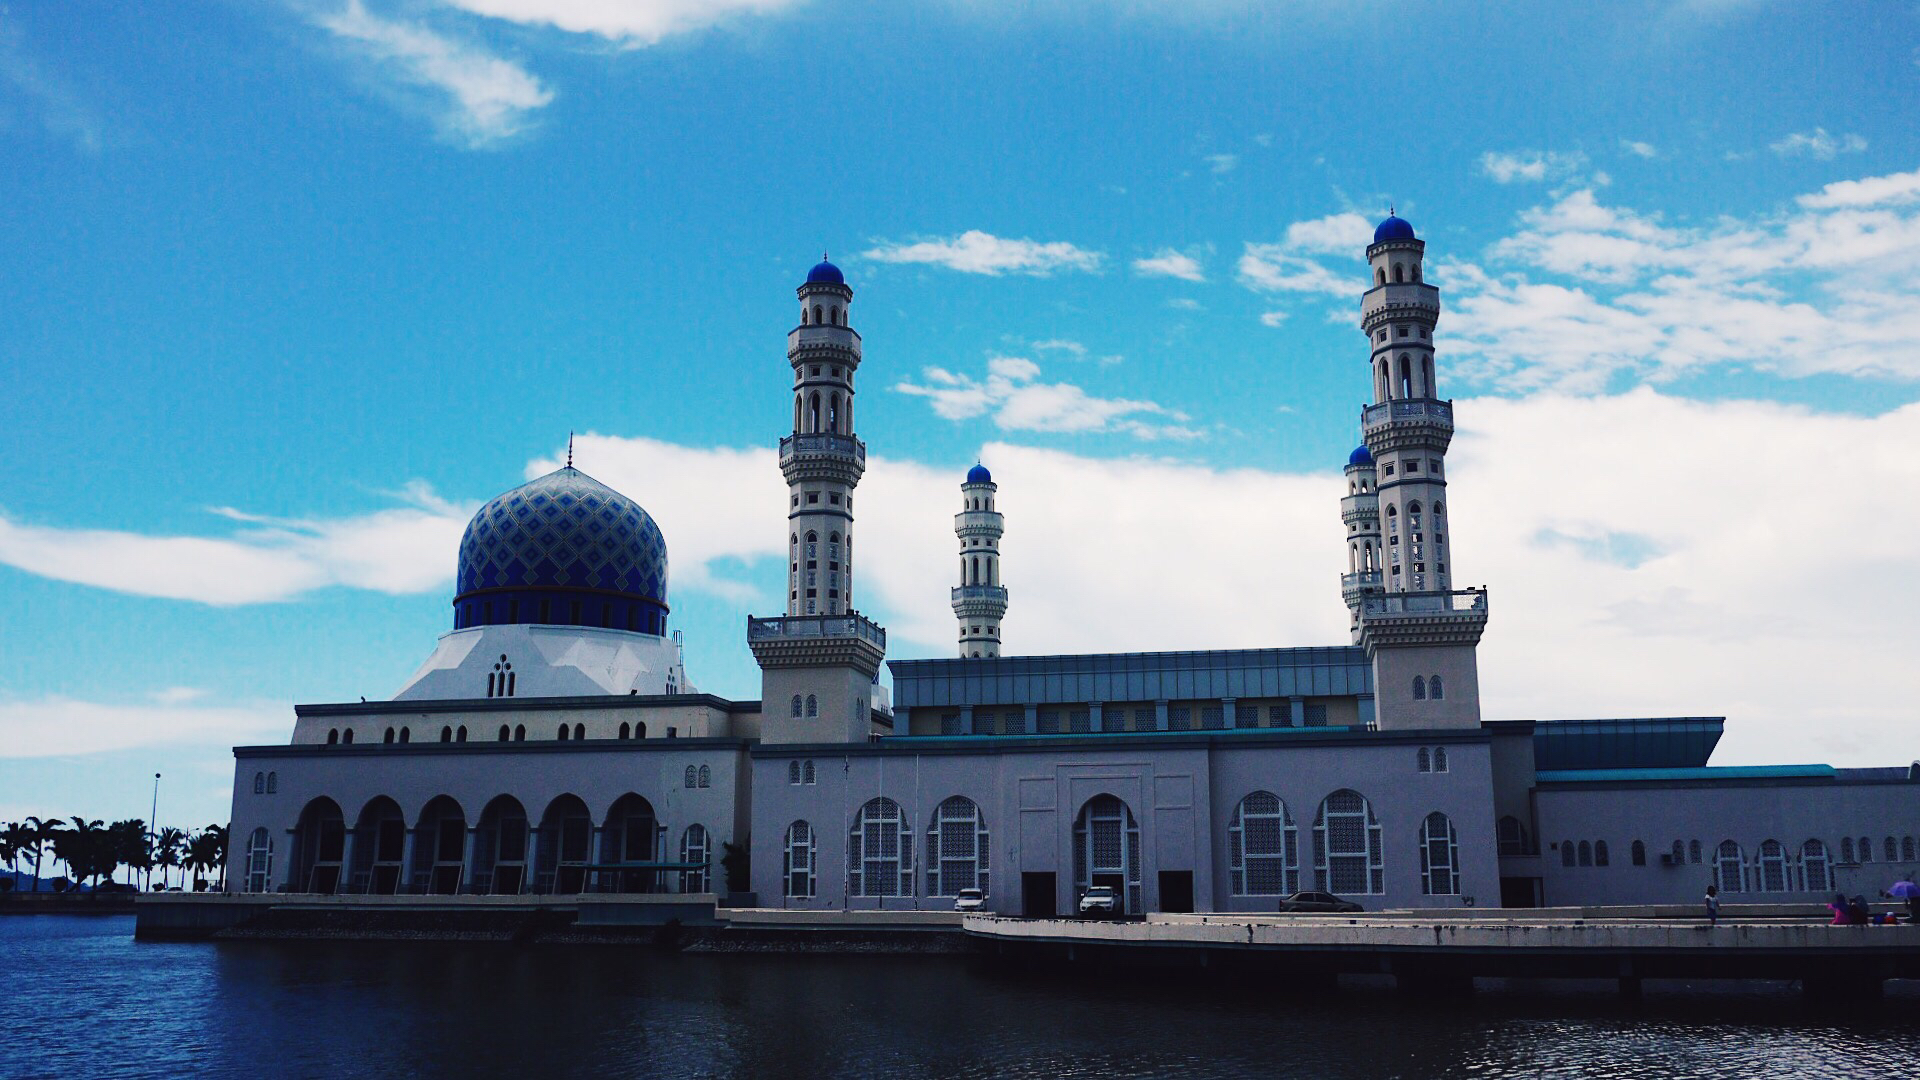Mosque: (274, 204, 1528, 905)
